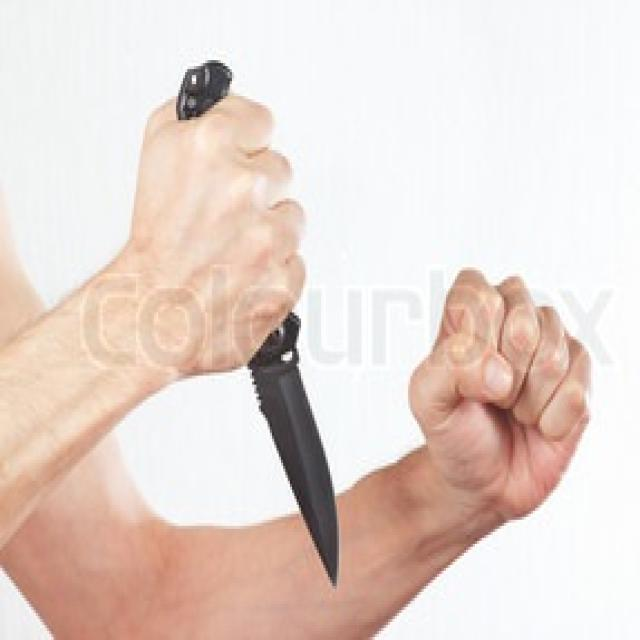knife: (178, 64, 342, 594)
